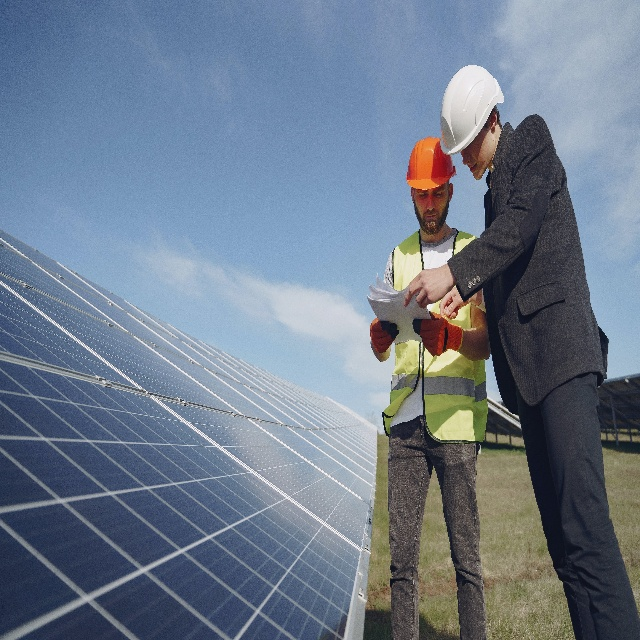Guantes: (412, 309, 463, 357), (369, 315, 400, 355)
Sin_guantes: (402, 262, 456, 309), (439, 286, 473, 320)
